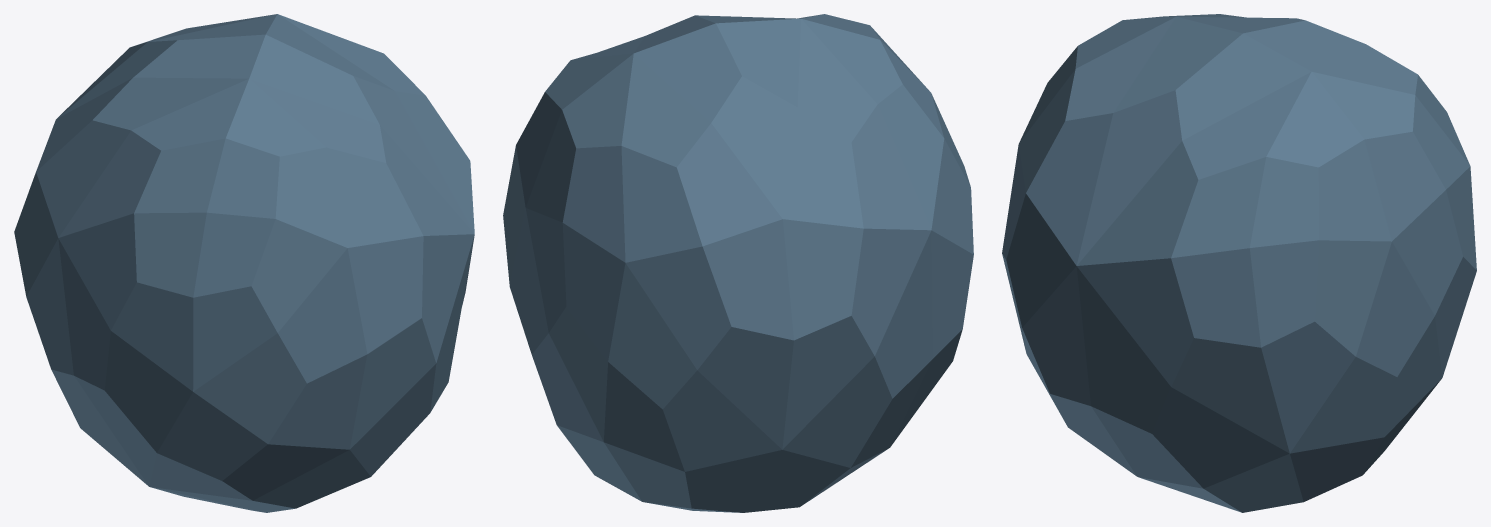
File: Rock_03.fbx
3 renders of one model, left to right at view 1: azimuth 30°, elevation 25°; view 2: azimuth 150°, elevation 25°; view 3: azimuth 270°, elevation 25°, orthographic. The views are drawn at different scales.
Parts seen in each view (by area): view 1: PIEDRA_REDONDA; view 2: PIEDRA_REDONDA; view 3: PIEDRA_REDONDA.
Part boxes in pixels (bbox=[...]): PIEDRA_REDONDA: bbox=[14, 14, 474, 512]; PIEDRA_REDONDA: bbox=[503, 14, 973, 512]; PIEDRA_REDONDA: bbox=[1002, 14, 1476, 512].
Size of the model in its own units: 891 by 984 by 928.
